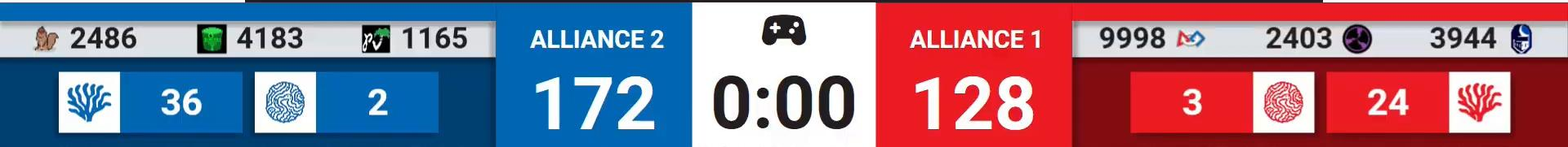blue_score: (527, 71, 664, 137)
red_score: (908, 72, 1042, 137)
team_number: (1256, 22, 1338, 55), (1421, 22, 1500, 55), (1094, 22, 1171, 55), (231, 22, 307, 55), (65, 22, 140, 55), (399, 23, 473, 55)
timer: (706, 71, 862, 133)
